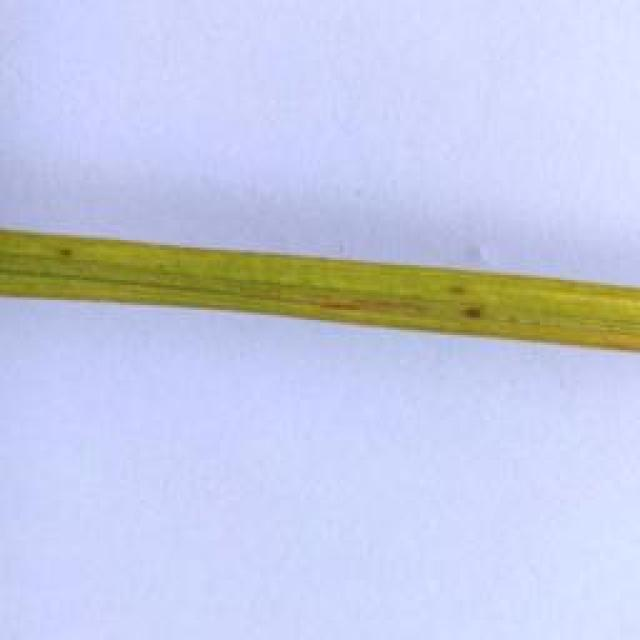Bacterial_Blight: (271, 280, 640, 356)
Brown_Spot: (449, 296, 507, 334), (40, 240, 87, 274), (450, 275, 472, 304)
